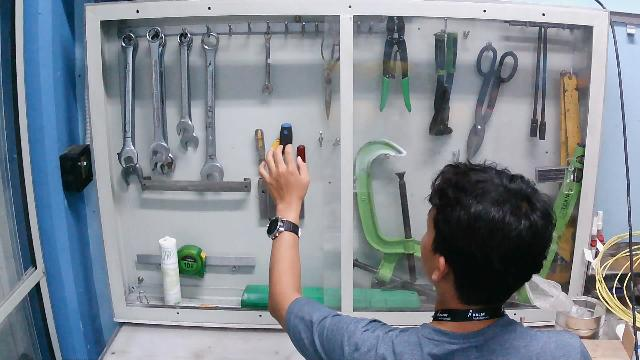kunci_pass_13: (245, 19, 310, 188)
